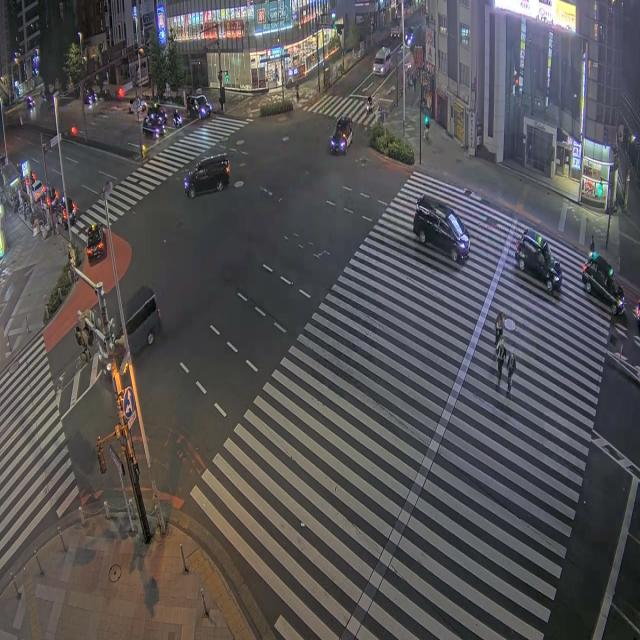car: (413, 195, 470, 262), (515, 229, 562, 292), (582, 252, 624, 315), (184, 154, 230, 198), (330, 116, 353, 153), (86, 224, 106, 262), (187, 95, 212, 119), (58, 196, 78, 225), (142, 116, 165, 138), (147, 103, 167, 125), (32, 181, 46, 201), (83, 89, 97, 106), (129, 99, 146, 112), (404, 28, 414, 46), (26, 96, 34, 111), (636, 301, 639, 328)
motorcycle: (173, 112, 182, 128), (26, 96, 35, 110), (366, 99, 373, 114)
van: (123, 287, 160, 354), (373, 48, 391, 75)
